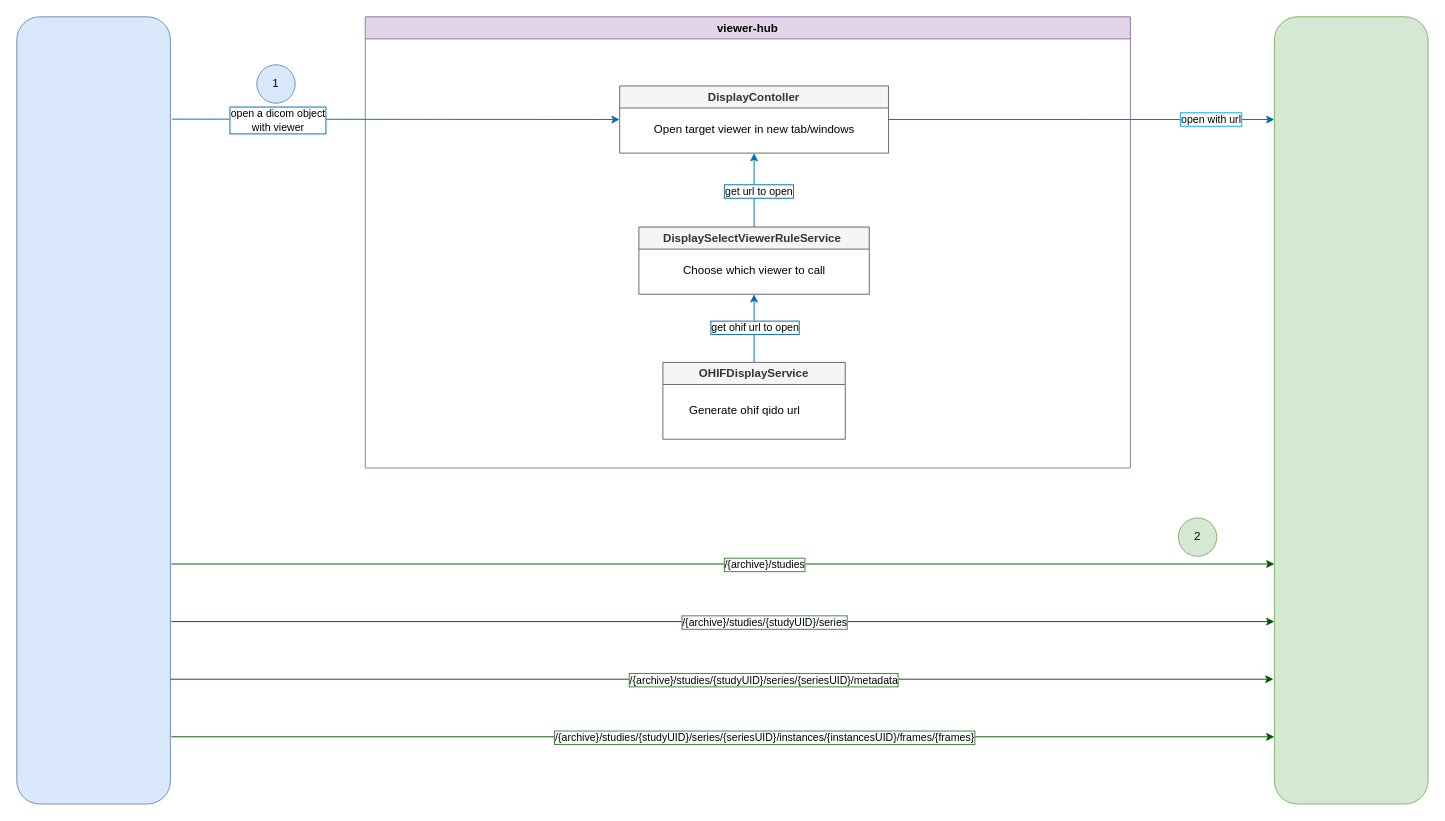
Image size: 1445x821. Some labels were removed from this diagram. The shapes that lost their labels are listed below. From the top down, each one's centre as x and y in pixels, then its label:
point (93, 410): Archive
point (1350, 410): OHIF
